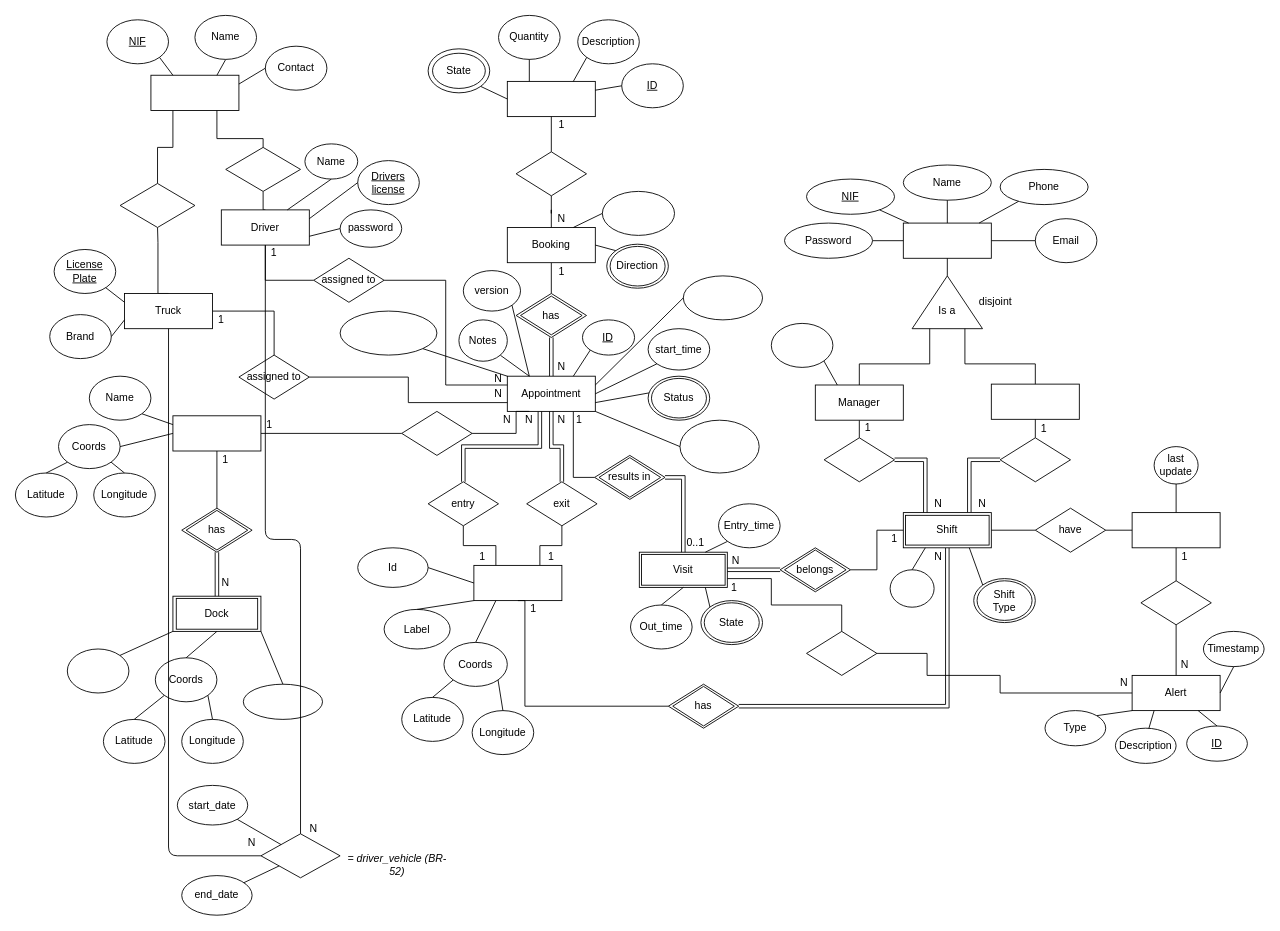
Some shapes in this 1280 by 931 pixel diagram are drawn without their labels. The shapes that lost their labels are listed below. From the top down, each one's centre as x and y in pixels, then its label:
At (x=194, y=92): "Company".
At (x=550, y=99): "Cargo".
At (x=263, y=169): "employs".
At (x=551, y=173): "contains".
At (x=157, y=205): "owns".
At (x=638, y=213): "Reference".
At (x=946, y=240): "Worker".
At (x=722, y=297): "reviewed_at".
At (x=388, y=332): "highway_infraction".
At (x=801, y=345): "Access Level".
At (x=1034, y=401): "Operator".
At (x=216, y=433): "Terminal".
At (x=436, y=433): "refers".
At (x=719, y=446): "expect_duration".
At (x=859, y=459): "manage".
At (x=1035, y=459): "works".
At (x=1175, y=530): "History".
At (x=517, y=583): "Gate".
At (x=911, y=588): "Date".
At (x=1175, y=602): "agrupe".
At (x=97, y=670): "BayNumber".
At (x=841, y=653): "produce".
At (x=282, y=701): "CurrentUsage".
At (x=300, y=855): "drives".
